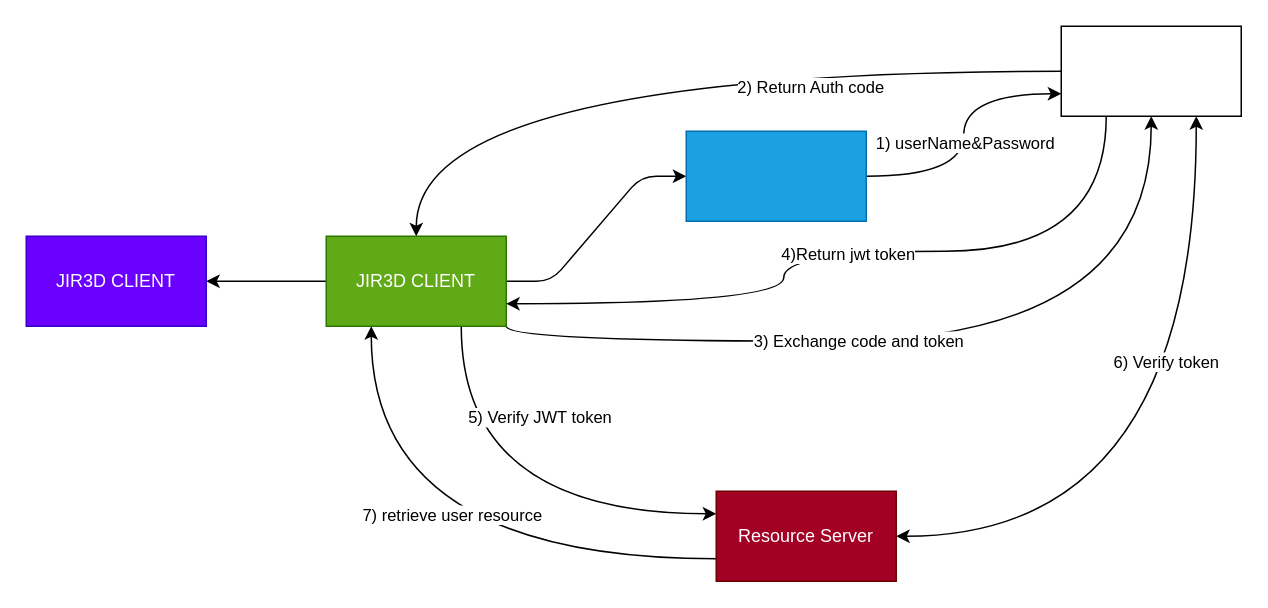
The diagram is 1268 pixels wide and 608 high, and some of its shapes have lost their labels. The shapes that lost their labels are listed below. From the top down, each one's centre as x and y in pixels, then its label:
the point at 1150,70: Auth Server
the point at 775,175: LogIn
